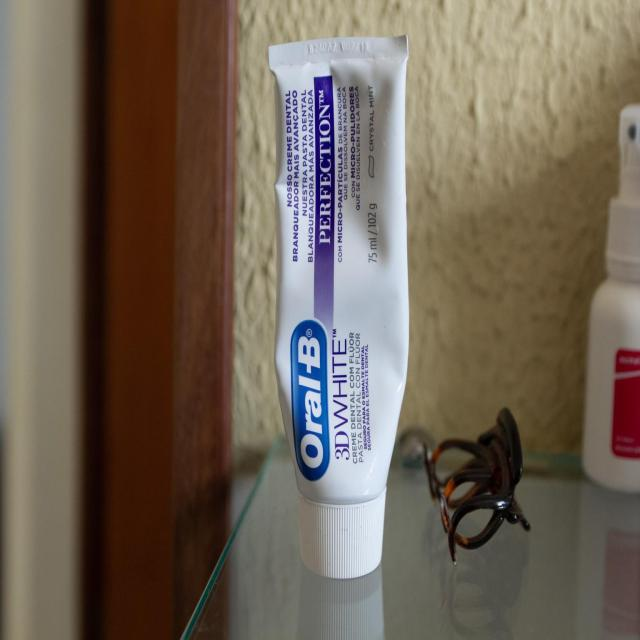Toothpaste: (261, 28, 421, 584)
